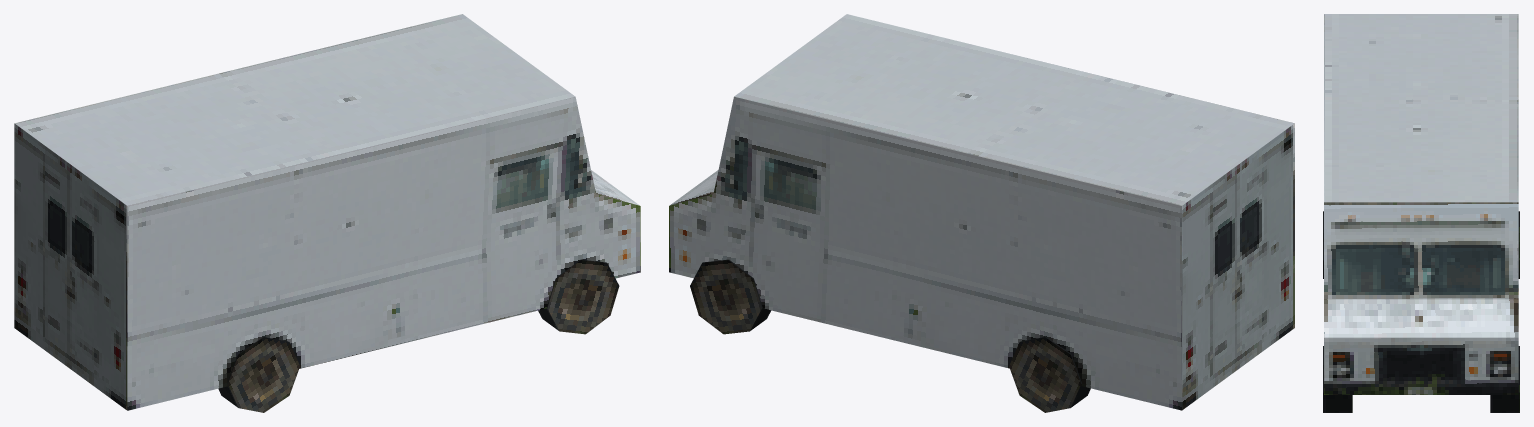
The model's file is van.glb.
3 views of the same model, side by side, from view 1: azimuth 30°, elevation 25°; view 2: azimuth 150°, elevation 25°; view 3: azimuth 270°, elevation 25° (orthographic). The views are drawn at different scales.
Visible parts, largest first — view 1: Cube_VanMat_0; view 2: Cube_VanMat_0; view 3: Cube_VanMat_0.
Part boxes in pixels (bbox=[...]): Cube_VanMat_0: bbox=[14, 14, 640, 412]; Cube_VanMat_0: bbox=[669, 14, 1294, 412]; Cube_VanMat_0: bbox=[1323, 14, 1519, 412].
Size of the model in its own units: 7.1 by 3.17 by 2.74.
Materials: 1 (1 with a texture image).
